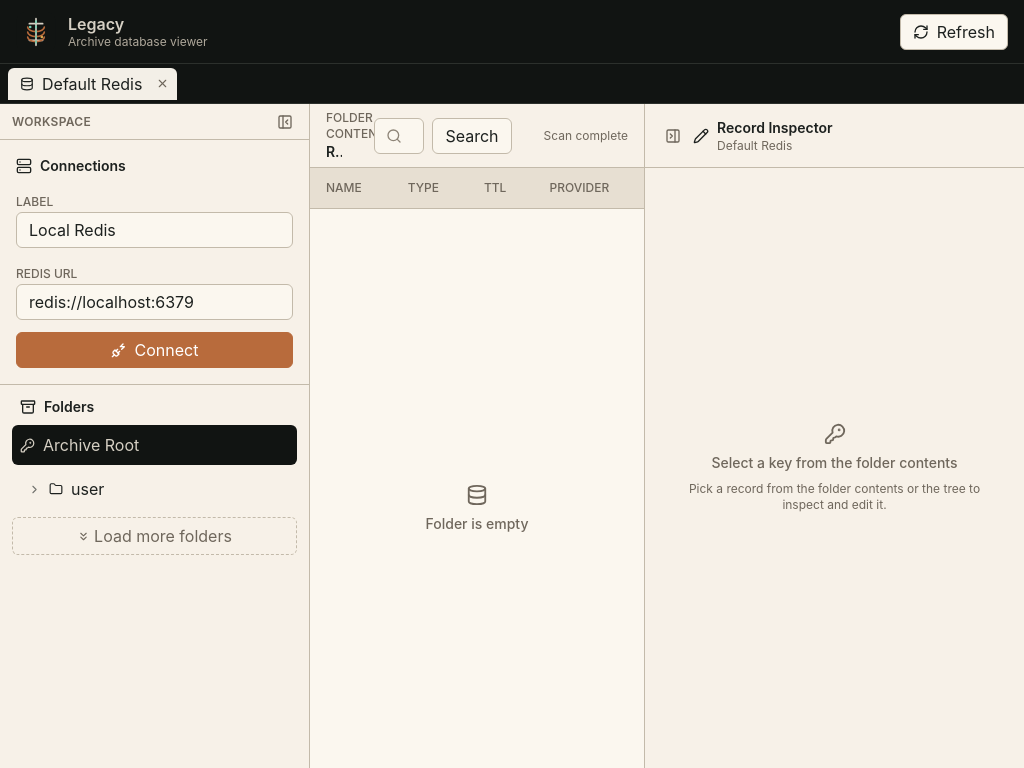
Test case: DatabaseWorkbench › loads more folders through the namespace cursor
This screenshot has width=1024, height=768.
Expected: the button with aria-label "Open folder user" is shown, [20,469,297,509]
Click the button "Load more folders" at [154, 536], box [12,517,297,555]
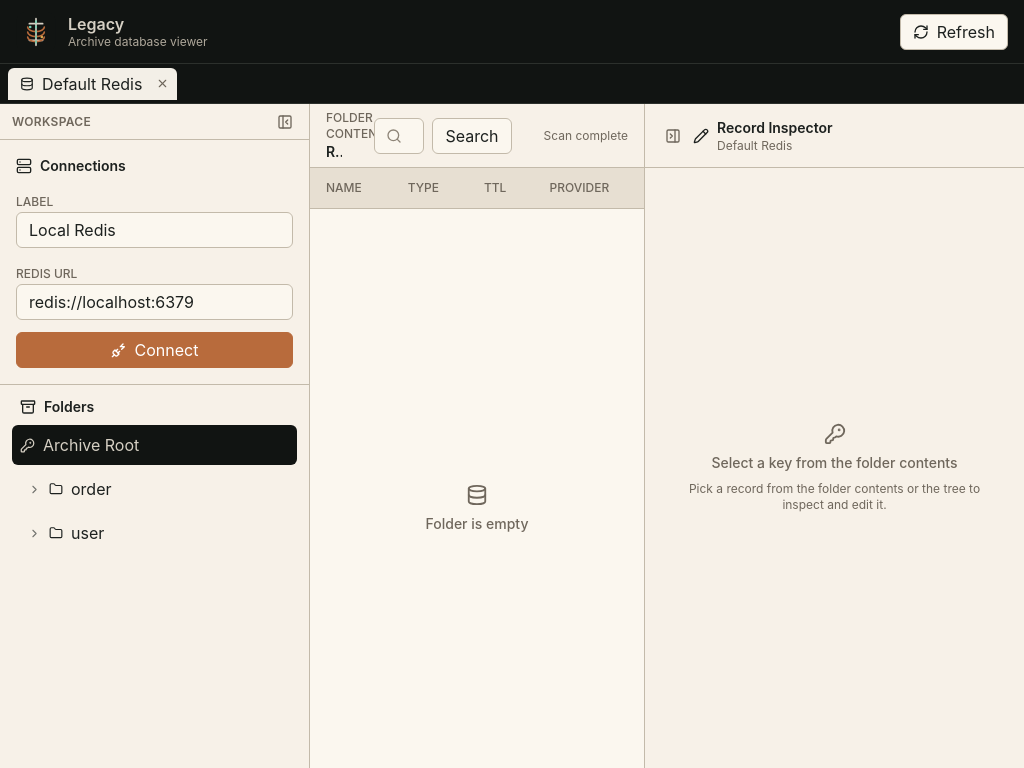
Expected: the button with aria-label "Open folder user" is shown, [20,513,297,553]
Expected: the button with aria-label "Open folder order" is shown, [20,469,297,509]
